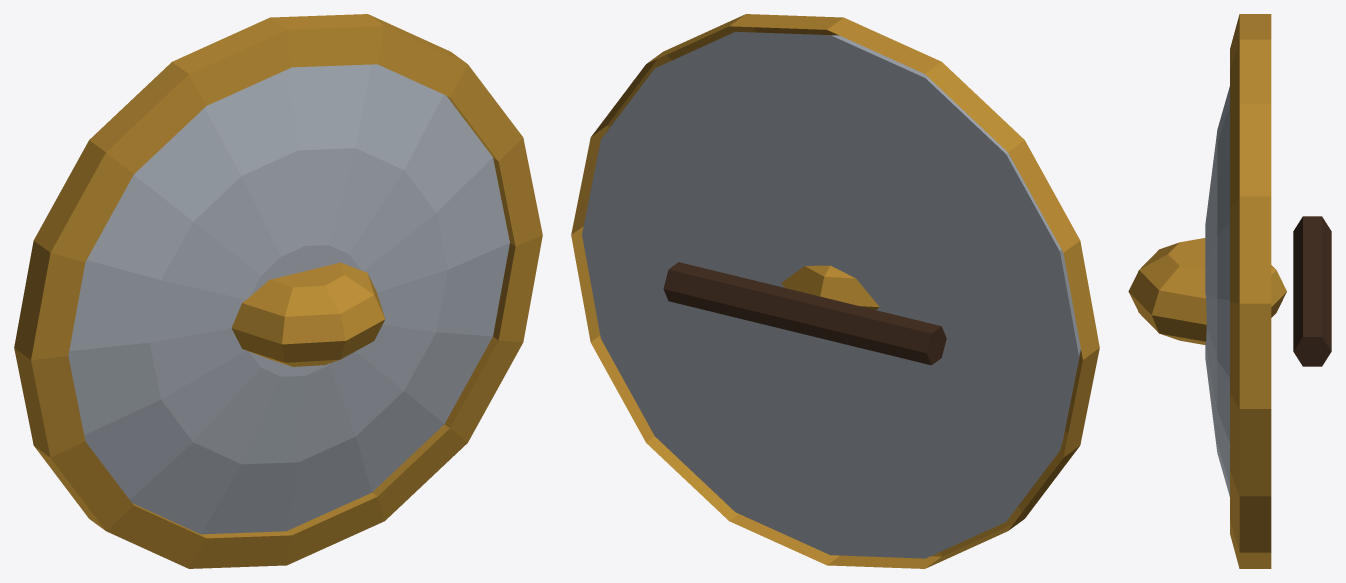
The model's file is g-shield-buckler.glb.
3 views of the same model, side by side, from view 1: azimuth 30°, elevation 25°; view 2: azimuth 150°, elevation 25°; view 3: azimuth 270°, elevation 25° (orthographic). The views are drawn at different scales.
Visible parts, largest first — view 1: g-shield-buckler; view 2: g-shield-buckler; view 3: g-shield-buckler.
Part boxes in pixels (box(x1,y1,x2,y2)): g-shield-buckler: box(14, 14, 542, 568); g-shield-buckler: box(571, 14, 1099, 568); g-shield-buckler: box(1128, 14, 1331, 568).
Bounding box in the file's own units: 0.3502 × 0.3502 × 0.128.
